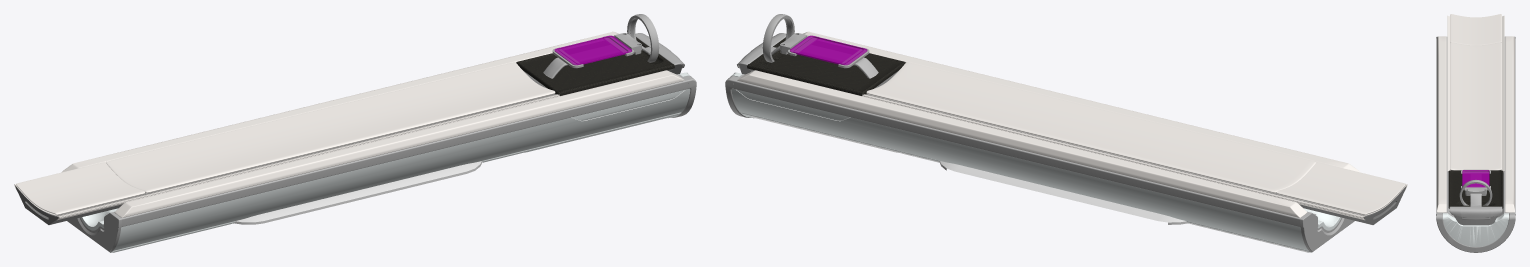
3 renders of one model, left to right at view 1: azimuth 30°, elevation 25°; view 2: azimuth 150°, elevation 25°; view 3: azimuth 270°, elevation 25°, orthographic. The views are drawn at different scales.
Parts seen in each view (by area): view 1: Material2.010, Material2.002, Material2.004, Material2.007, Material2.008, Material3.002, Material2.011; view 2: Material2.010, Material2.002, Material2.004, Material2.007, Material2.008, Material3.002, Material2.011, Material2.003; view 3: Material2.010, Material2.004, Material2.002, Material2.007, Material3.002, Material2.009.
Boxes of the visible parts, x1,y1,x2,y2 form: Material2.010: (14,31,684,220); Material2.002: (80,72,690,252); Material2.004: (67,14,696,252); Material2.007: (516,37,674,95); Material2.008: (233,161,482,224); Material3.002: (554,35,631,65); Material2.011: (15,68,673,224); Material2.010: (737,31,1407,220); Material2.002: (731,72,1341,252); Material2.004: (725,14,1354,252); Material2.007: (747,37,905,95); Material2.008: (939,161,1188,224); Material3.002: (790,35,867,65); Material2.011: (748,68,1406,224); Material2.003: (736,90,1310,252); Material2.010: (1437,14,1514,212); Material2.004: (1436,36,1515,252); Material2.002: (1443,213,1508,246); Material2.007: (1448,170,1503,208); Material3.002: (1462,170,1489,187); Material2.009: (1454,197,1497,225).
Bounding box in the file's own units: 118 × 18.18 × 20.29.
9 materials, 1 textured.
